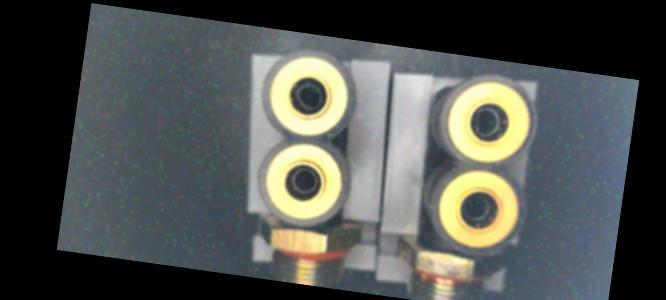off-centered: (290, 76, 327, 117), (467, 102, 503, 142)
